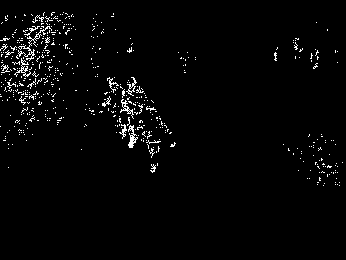person: (138, 100, 177, 176), (121, 75, 146, 153), (104, 76, 126, 140)
